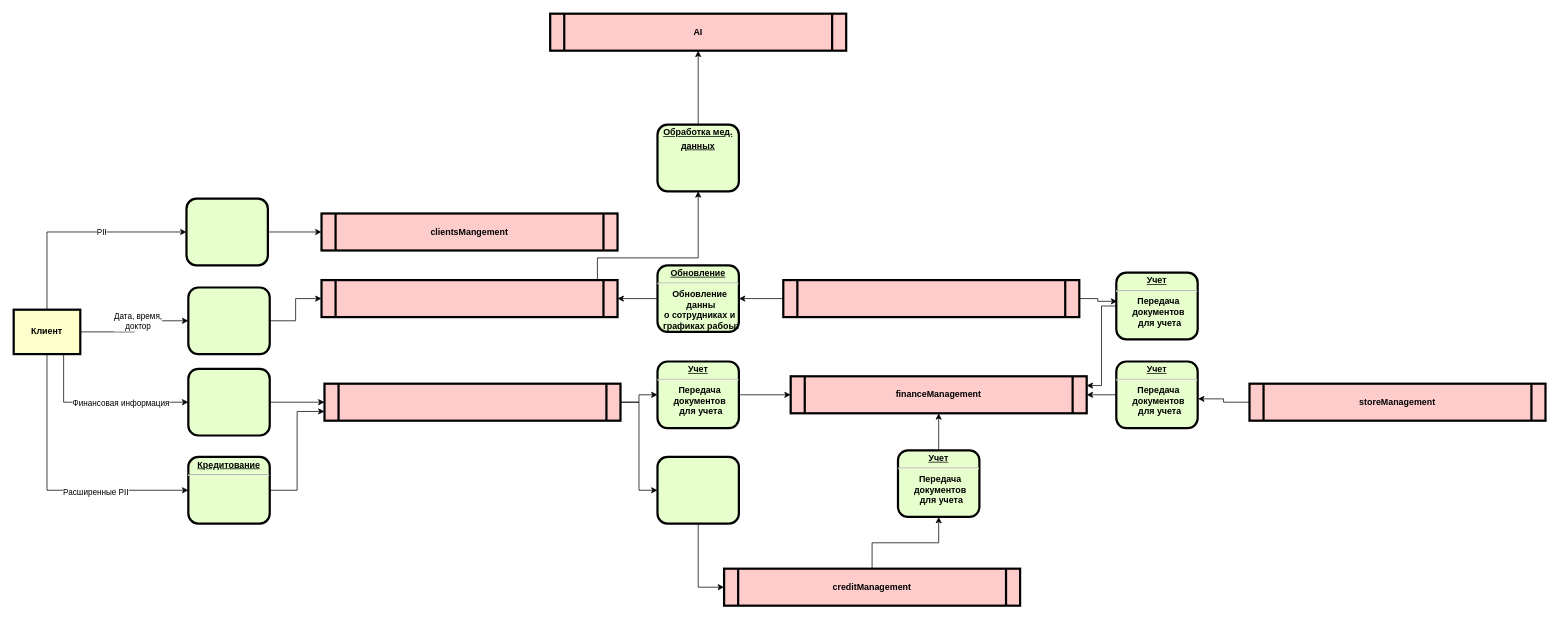
Image size: 1559x619. Some labels were removed from this diagram. Each missing label, with the centre of its shape:
financeService: point 472,401
hrManagement: point 931,298
medManagement: point 469,298
Выдача кредита: point 698,489
Запись на прием: point 228,320
Оплата: point 228,401
Регистрация: point 227,231
